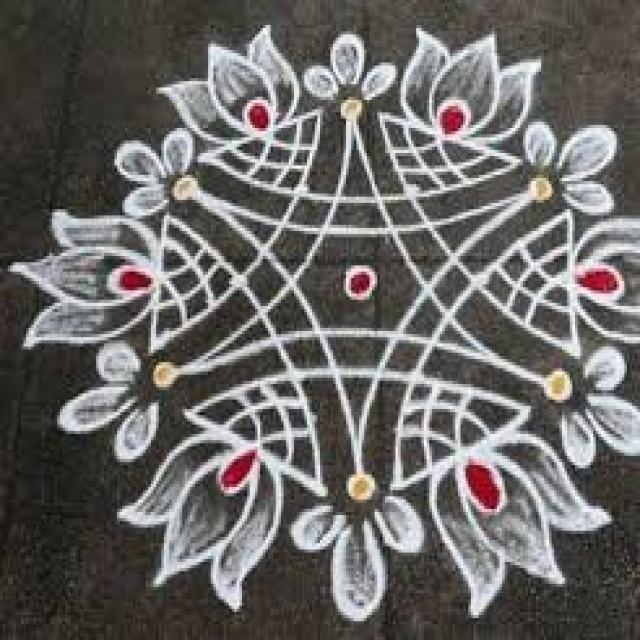rangoli: (6, 5, 640, 625)
